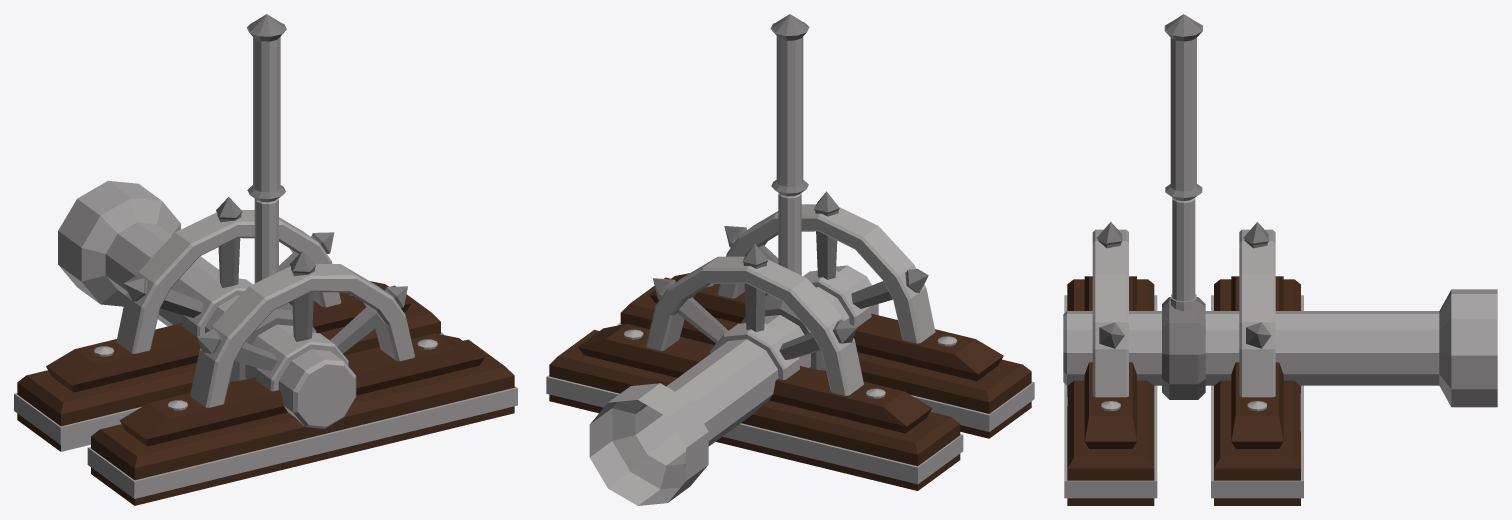
The model's file is WoodenFloorLever_2.fbx.
3 renders of one model, left to right at view 1: azimuth 30°, elevation 25°; view 2: azimuth 150°, elevation 25°; view 3: azimuth 270°, elevation 25°, orthographic. The views are drawn at different scales.
Visible parts, largest first — view 1: WoodenFloorLever_1_Casing, WoodenFloorLever_1_Handle; view 2: WoodenFloorLever_1_Casing, WoodenFloorLever_1_Handle; view 3: WoodenFloorLever_1_Casing, WoodenFloorLever_1_Handle.
Boxes of the visible parts, x1=… form: WoodenFloorLever_1_Casing: x1=14, y1=197, x2=517, y2=505; WoodenFloorLever_1_Handle: x1=58, y1=14, x2=356, y2=428; WoodenFloorLever_1_Casing: x1=546, y1=191, x2=1034, y2=490; WoodenFloorLever_1_Handle: x1=589, y1=14, x2=878, y2=505; WoodenFloorLever_1_Casing: x1=1064, y1=222, x2=1303, y2=505; WoodenFloorLever_1_Handle: x1=1063, y1=14, x2=1497, y2=407.
Size of the model in its own units: 112 by 113 by 111.
